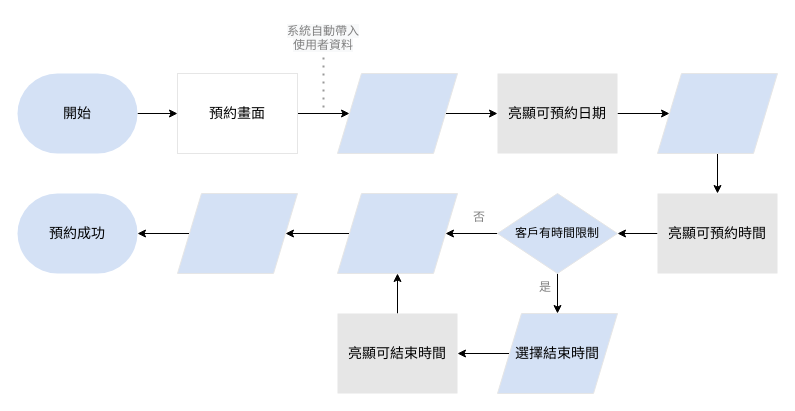
This 795x411 diagram has some shape labels left out. Each missing label, with the box of its shape:
填寫其他需求 (備註): (176, 192, 298, 274)
填寫參加人數: (336, 192, 458, 274)
選擇預約日期: (336, 72, 458, 154)
選擇預約時間: (656, 72, 778, 154)
